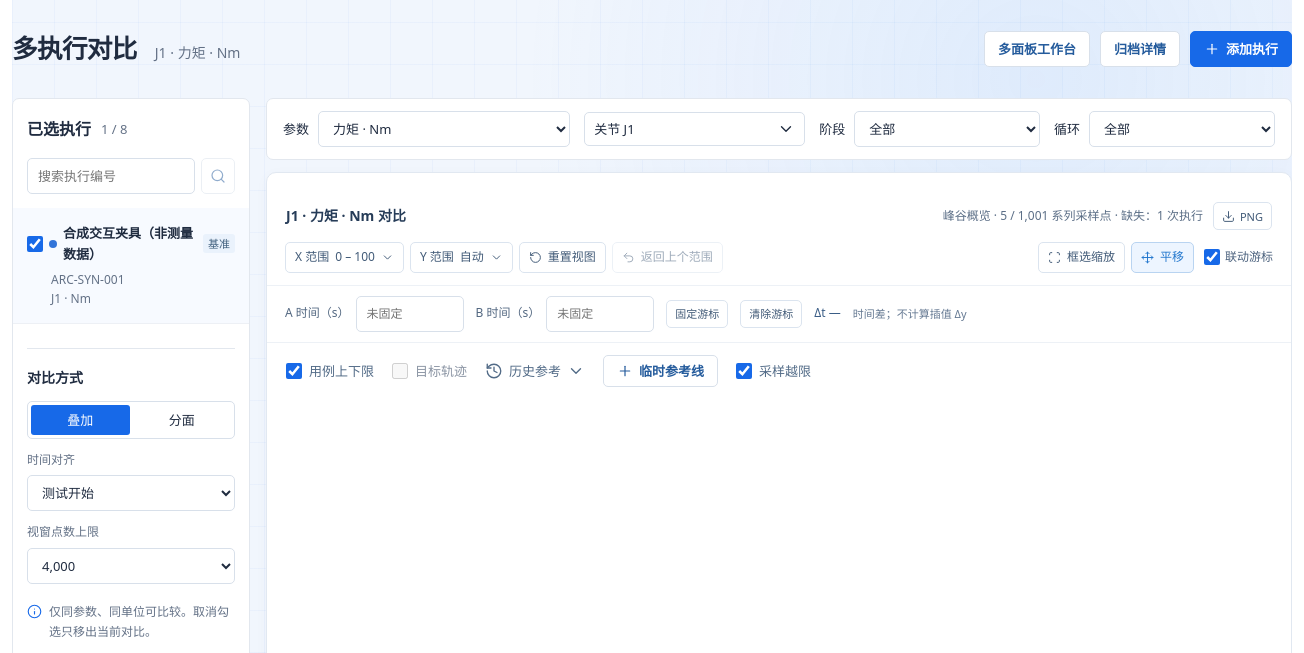
Scenario: includes and excludes a comparison without deleting it, then removes it without mutating the archive
This screenshot has width=1304, height=653.
Expected: the dropdown labelled "参数" is shown, [318,111,570,147]
Expected: the picture with class "time-series-canvas" is shown, [267,398,285,416]
Type "ARC-SYN-002" into the field named "查找测试记录".
click(111, 176); type("ARC-SYN-002")  # box [27,158,195,194]
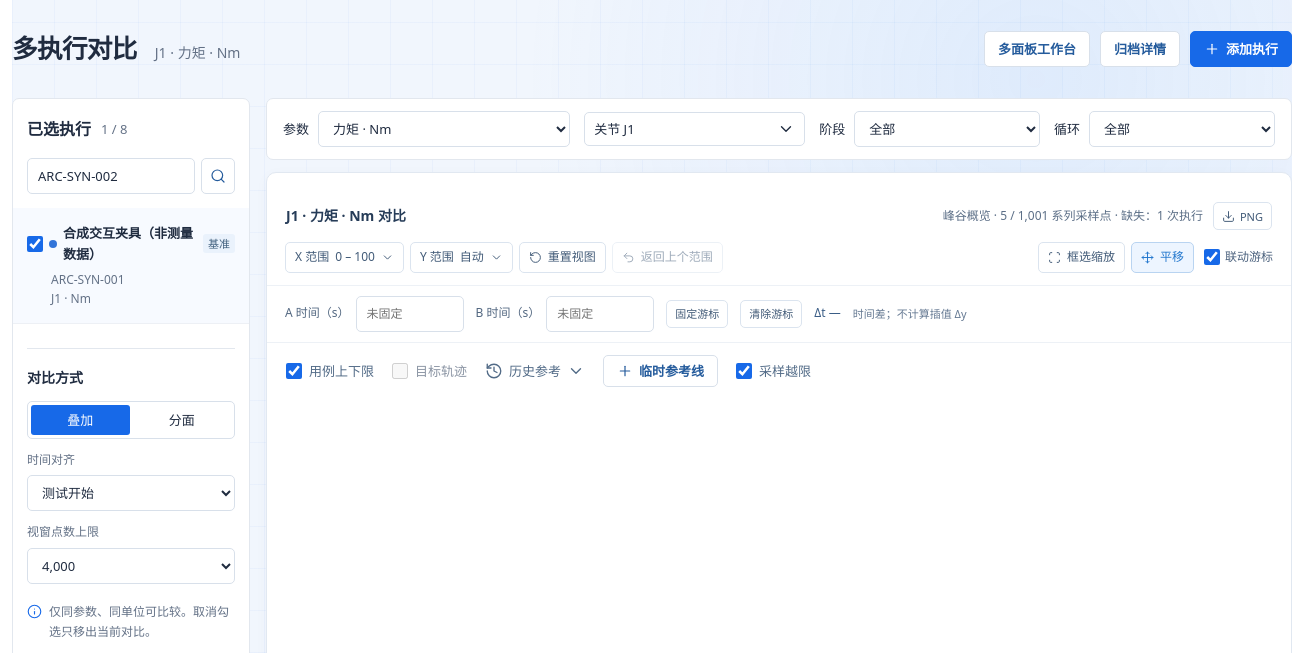
Click the button named "查找对比记录".
click(218, 176)  # box [201,158,235,194]
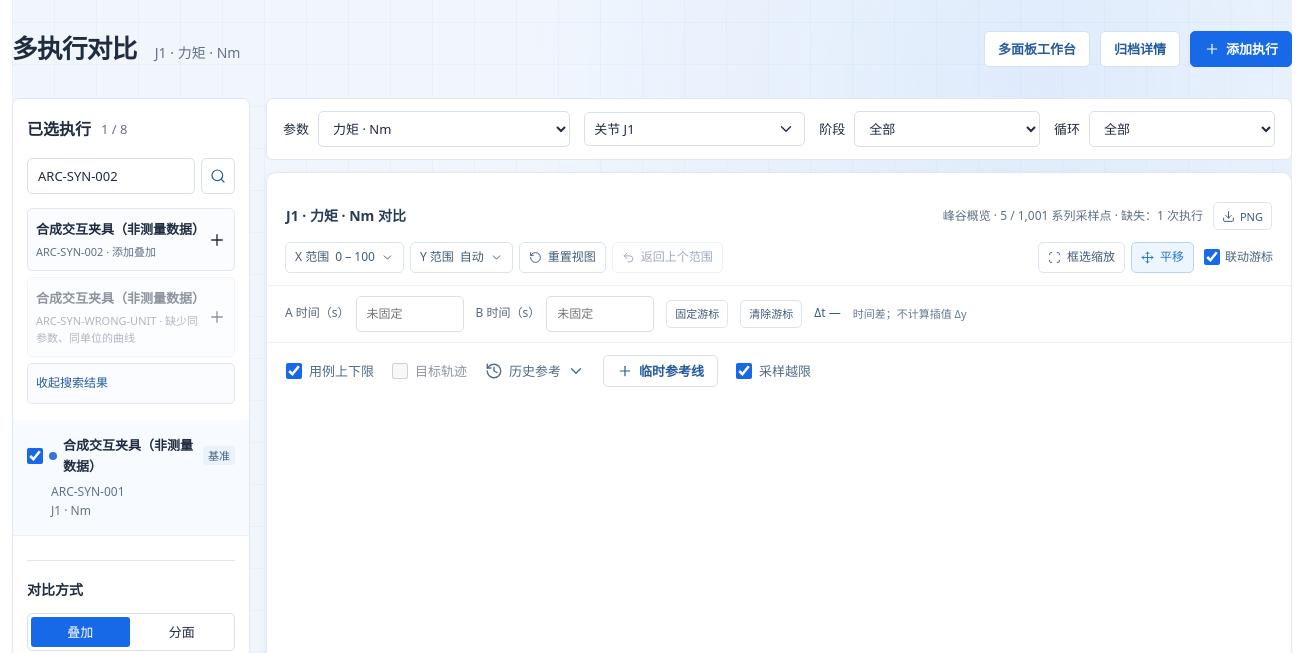
Click the button "合成交互夹具（非测量数据） ARC-SYN-002 · 添加叠加".
click(131, 240)  # box [27,208,235,271]
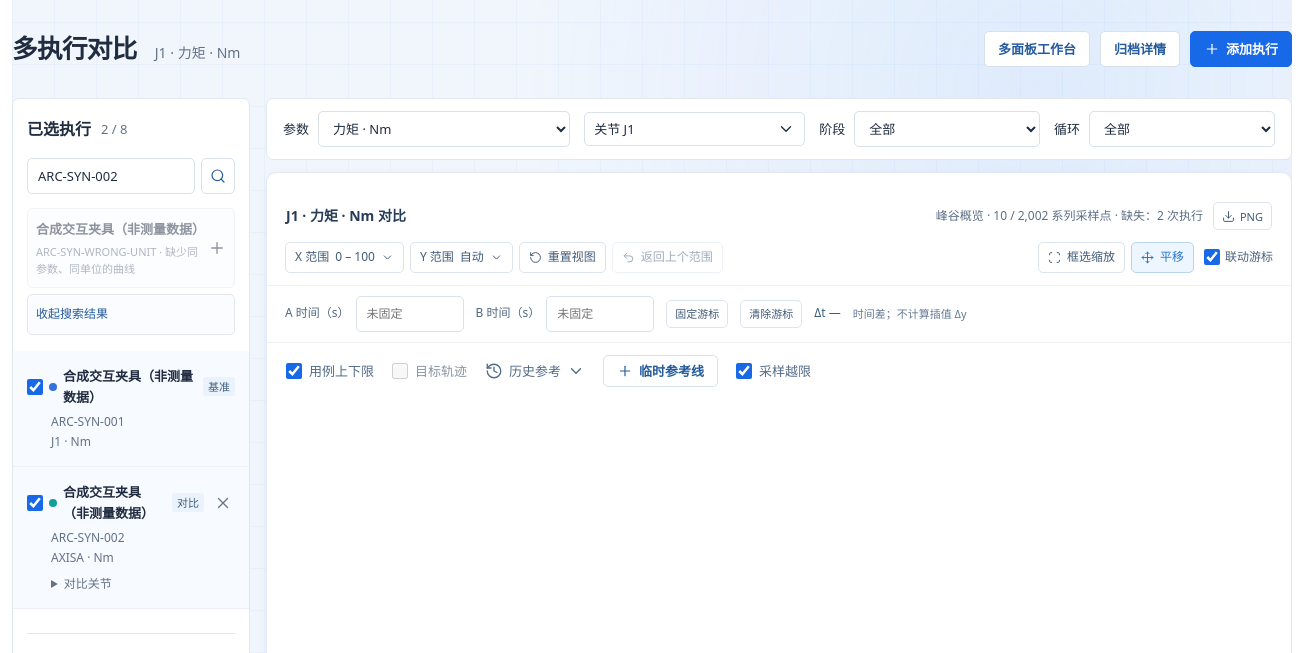
Expected: the picture with class "time-series-canvas" is shown, [267,398,285,416]
Click the checkbox named "参与对比 ARC-SYN-002".
click(35, 502)  # box [27,494,43,510]
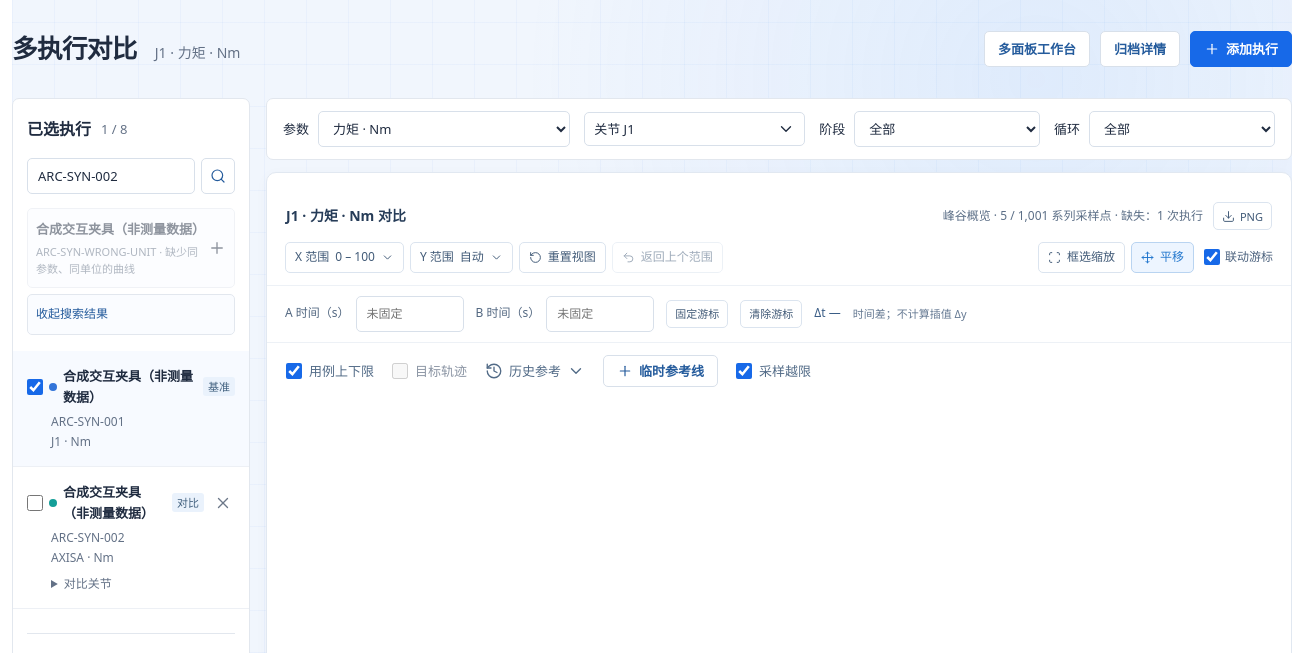
Expected: the picture with class "time-series-canvas" is shown, [267,398,285,416]
Expected: the button named "移除对比 ARC-SYN-002" is shown, [211,490,235,514]
Click the checkbox named "参与对比 ARC-SYN-002".
click(35, 502)  # box [27,494,43,510]
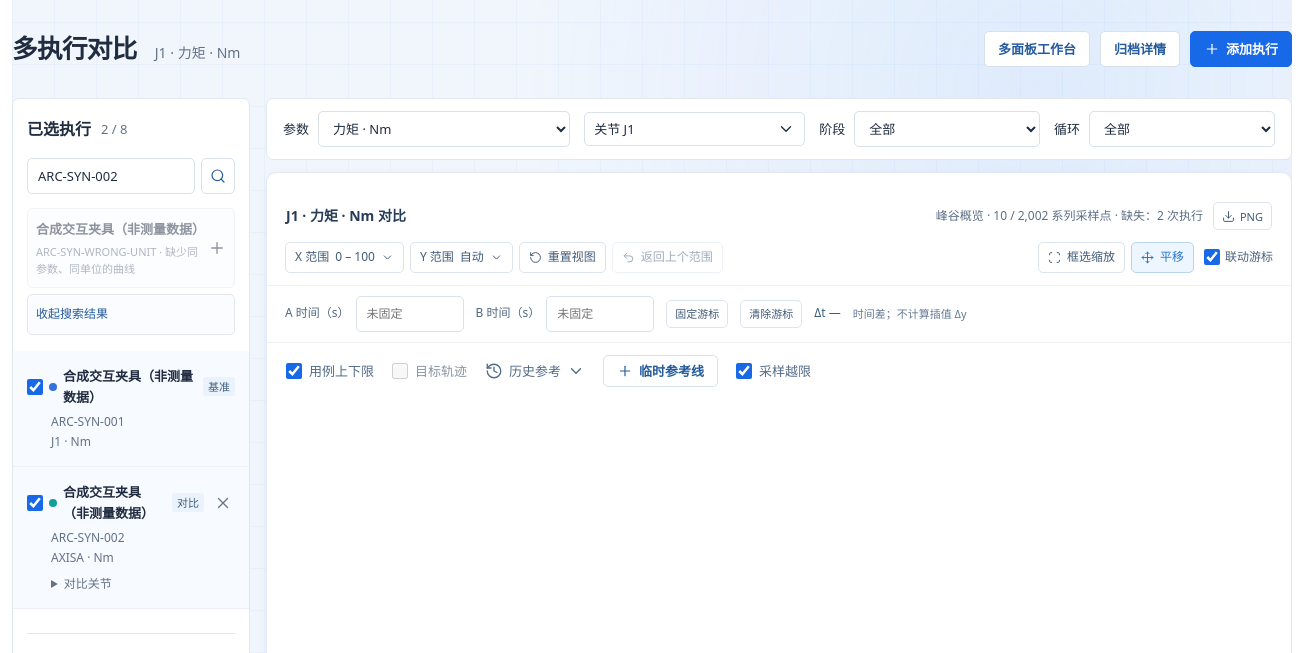
Expected: the picture with class "time-series-canvas" is shown, [267,398,285,416]
Click the button named "移除对比 ARC-SYN-002".
click(223, 502)  # box [211,490,235,514]
(page scrolled)
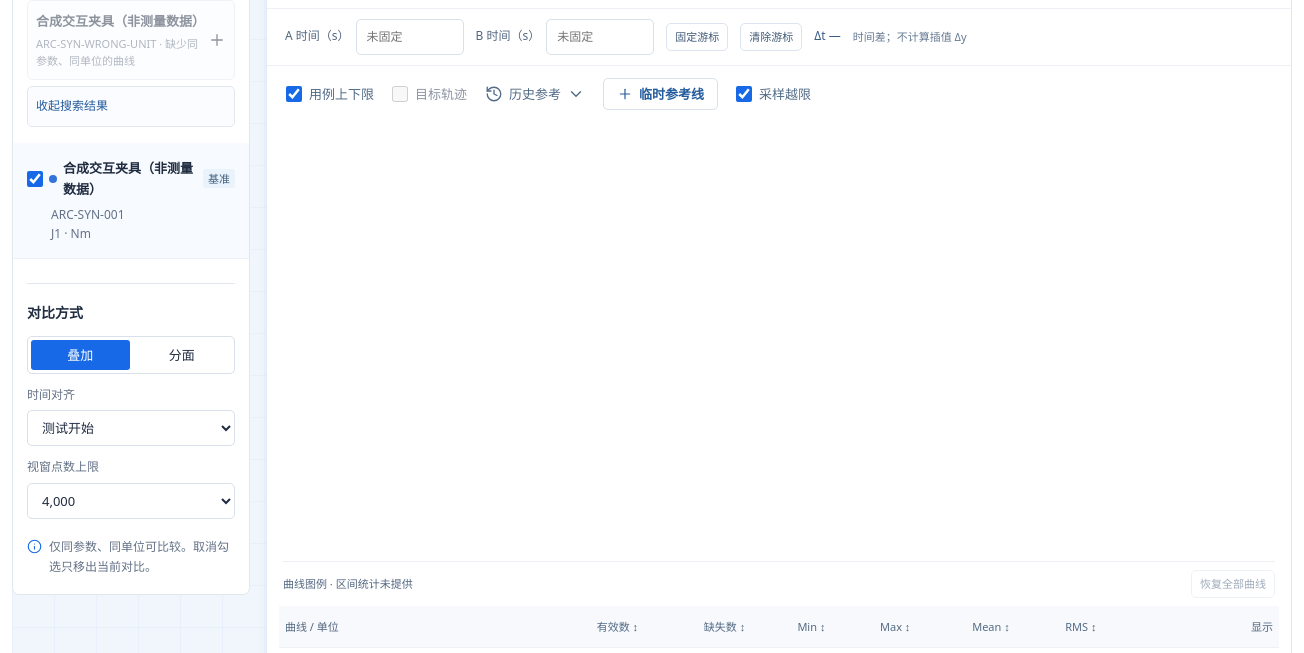
Expected: the picture with class "time-series-canvas" is shown, [267,121,285,139]
Expected: the checkbox labelled "移除对比 ARC-SYN-002" is gone
